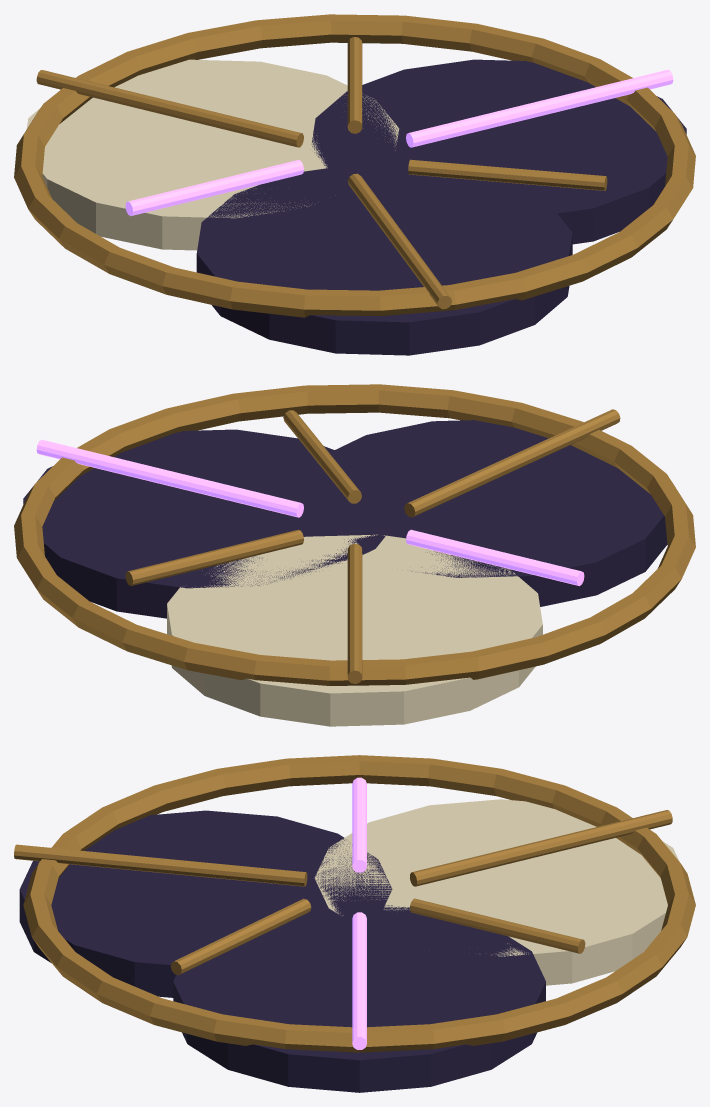
The model's file is runtime.glb.
3 views of the same model, one above another, from view 1: azimuth 30°, elevation 25°; view 2: azimuth 150°, elevation 25°; view 3: azimuth 270°, elevation 25° (orthographic).
Parts seen in each view (by area): view 1: aetherion-astronomical-medallion-v03_lobe_2_nocol, aetherion-astronomical-medallion-v03_outer_meridian_nocol, aetherion-astronomical-medallion-v03_lobe_0_nocol, aetherion-astronomical-medallion-v03_lobe_1_nocol, aetherion-astronomical-medallion-v03_bearing_00_nocol, aetherion-astronomical-medallion-v03_bearing_02_nocol, aetherion-astronomical-medallion-v03_bearing_05_nocol, aetherion-astronomical-medallion-v03_bearing_03_nocol, aetherion-astronomical-medallion-v03_bearing_04_nocol, aetherion-astronomical-medallion-v03_bearing_01_nocol; view 2: aetherion-astronomical-medallion-v03_lobe_1_nocol, aetherion-astronomical-medallion-v03_outer_meridian_nocol, aetherion-astronomical-medallion-v03_lobe_0_nocol, aetherion-astronomical-medallion-v03_lobe_2_nocol, aetherion-astronomical-medallion-v03_bearing_00_nocol, aetherion-astronomical-medallion-v03_bearing_04_nocol, aetherion-astronomical-medallion-v03_bearing_01_nocol, aetherion-astronomical-medallion-v03_bearing_03_nocol, aetherion-astronomical-medallion-v03_bearing_02_nocol, aetherion-astronomical-medallion-v03_bearing_05_nocol; view 3: aetherion-astronomical-medallion-v03_lobe_0_nocol, aetherion-astronomical-medallion-v03_outer_meridian_nocol, aetherion-astronomical-medallion-v03_lobe_2_nocol, aetherion-astronomical-medallion-v03_lobe_1_nocol, aetherion-astronomical-medallion-v03_bearing_04_nocol, aetherion-astronomical-medallion-v03_bearing_02_nocol, aetherion-astronomical-medallion-v03_bearing_01_nocol, aetherion-astronomical-medallion-v03_bearing_05_nocol, aetherion-astronomical-medallion-v03_bearing_00_nocol, aetherion-astronomical-medallion-v03_bearing_03_nocol.
Boxes of the visible parts, x1,y1,x2,y2 form: aetherion-astronomical-medallion-v03_lobe_2_nocol: [196, 165, 572, 355]; aetherion-astronomical-medallion-v03_outer_meridian_nocol: [14, 14, 695, 317]; aetherion-astronomical-medallion-v03_lobe_0_nocol: [311, 59, 686, 244]; aetherion-astronomical-medallion-v03_lobe_1_nocol: [26, 59, 399, 250]; aetherion-astronomical-medallion-v03_bearing_00_nocol: [406, 69, 673, 147]; aetherion-astronomical-medallion-v03_bearing_02_nocol: [36, 70, 303, 147]; aetherion-astronomical-medallion-v03_bearing_05_nocol: [408, 159, 607, 190]; aetherion-astronomical-medallion-v03_bearing_03_nocol: [125, 160, 303, 216]; aetherion-astronomical-medallion-v03_bearing_04_nocol: [348, 173, 451, 309]; aetherion-astronomical-medallion-v03_bearing_01_nocol: [347, 37, 362, 133]; aetherion-astronomical-medallion-v03_lobe_1_nocol: [167, 534, 542, 726]; aetherion-astronomical-medallion-v03_outer_meridian_nocol: [14, 384, 695, 685]; aetherion-astronomical-medallion-v03_lobe_0_nocol: [23, 429, 399, 618]; aetherion-astronomical-medallion-v03_lobe_2_nocol: [304, 420, 667, 606]; aetherion-astronomical-medallion-v03_bearing_00_nocol: [36, 439, 303, 517]; aetherion-astronomical-medallion-v03_bearing_04_nocol: [404, 409, 620, 517]; aetherion-astronomical-medallion-v03_bearing_01_nocol: [125, 529, 303, 585]; aetherion-astronomical-medallion-v03_bearing_03_nocol: [406, 529, 584, 585]; aetherion-astronomical-medallion-v03_bearing_02_nocol: [347, 543, 362, 683]; aetherion-astronomical-medallion-v03_bearing_05_nocol: [283, 410, 361, 503]; aetherion-astronomical-medallion-v03_lobe_0_nocol: [173, 905, 545, 1092]; aetherion-astronomical-medallion-v03_outer_meridian_nocol: [23, 755, 695, 1052]; aetherion-astronomical-medallion-v03_lobe_2_nocol: [19, 810, 392, 997]; aetherion-astronomical-medallion-v03_lobe_1_nocol: [314, 799, 679, 985]; aetherion-astronomical-medallion-v03_bearing_04_nocol: [14, 844, 307, 886]; aetherion-astronomical-medallion-v03_bearing_02_nocol: [410, 810, 672, 886]; aetherion-astronomical-medallion-v03_bearing_01_nocol: [409, 898, 585, 953]; aetherion-astronomical-medallion-v03_bearing_05_nocol: [170, 898, 311, 975]; aetherion-astronomical-medallion-v03_bearing_00_nocol: [352, 912, 366, 1049]; aetherion-astronomical-medallion-v03_bearing_03_nocol: [352, 777, 366, 872].
Bounding box in the file's own units: 6.94 × 0.655 × 6.83.
